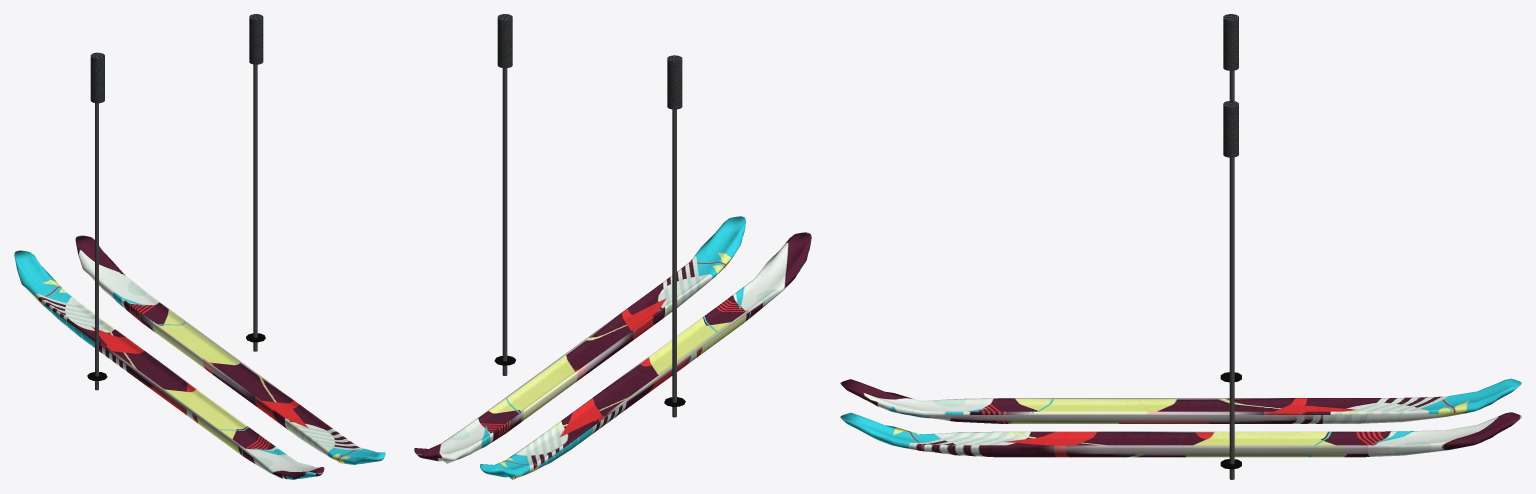
Rendered from Skis.FBX.
The picture shows the model from 3 angles, left to right: view 1: azimuth 30°, elevation 25°; view 2: azimuth 150°, elevation 25°; view 3: azimuth 270°, elevation 25°; orthographic projection. The views are drawn at different scales.
Visible parts, largest first — view 1: Box001, Box002, Cylinder001, Cylinder004, Cylinder006, Cylinder002; view 2: Box002, Box001, Cylinder001, Cylinder004, Cylinder006, Cylinder002; view 3: Box002, Box001, Cylinder001, Cylinder002, Cylinder006.
Part boxes in pixels (bbox=[...]): Box001: bbox=[14, 250, 324, 479]; Box002: bbox=[75, 235, 385, 464]; Cylinder001: bbox=[253, 64, 257, 351]; Cylinder004: bbox=[95, 103, 98, 390]; Cylinder006: bbox=[90, 52, 104, 103]; Cylinder002: bbox=[249, 14, 263, 64]; Box002: bbox=[414, 216, 745, 463]; Box001: bbox=[480, 232, 811, 479]; Cylinder001: bbox=[502, 68, 507, 375]; Cylinder004: bbox=[672, 109, 676, 417]; Cylinder006: bbox=[667, 55, 682, 109]; Cylinder002: bbox=[497, 14, 512, 68]; Box002: bbox=[840, 412, 1521, 457]; Box001: bbox=[840, 378, 1521, 423]; Cylinder001: bbox=[1229, 157, 1234, 479]; Cylinder002: bbox=[1223, 100, 1238, 157]; Cylinder006: bbox=[1223, 14, 1238, 70].
Bounding box in the file's own units: 68.47 × 124 × 205.
4 materials, 2 textured.
